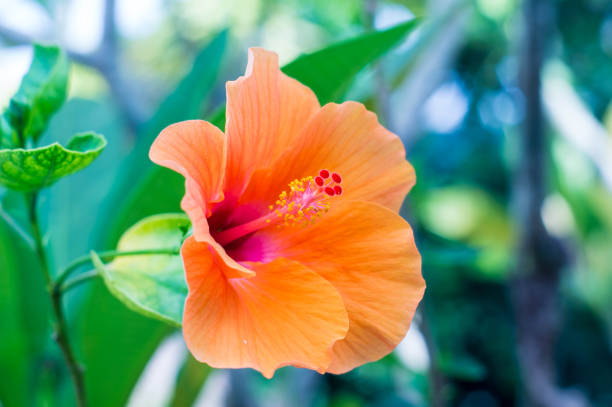Hibiscus: (153, 46, 442, 383)
